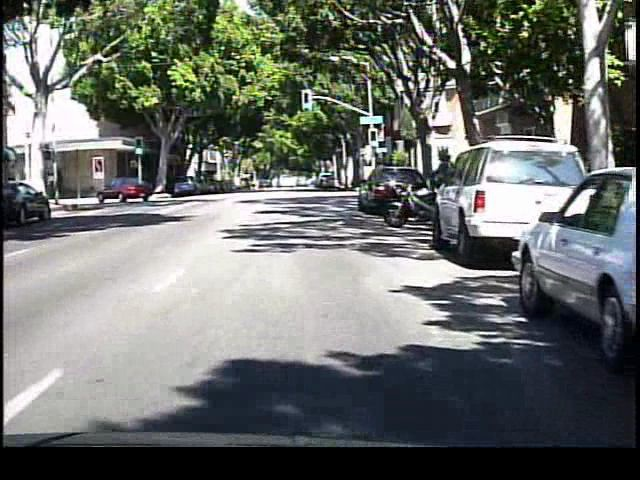person: (432, 135, 466, 235)
